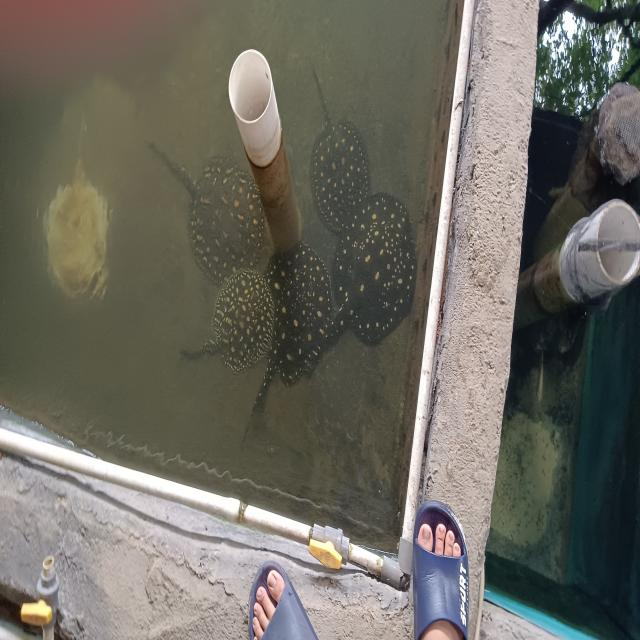albino-sting-ray: (36, 153, 122, 322)
black-diamond-sting-ray: (140, 106, 261, 291), (325, 192, 415, 390), (301, 45, 386, 242), (260, 233, 331, 442), (175, 254, 264, 392)
